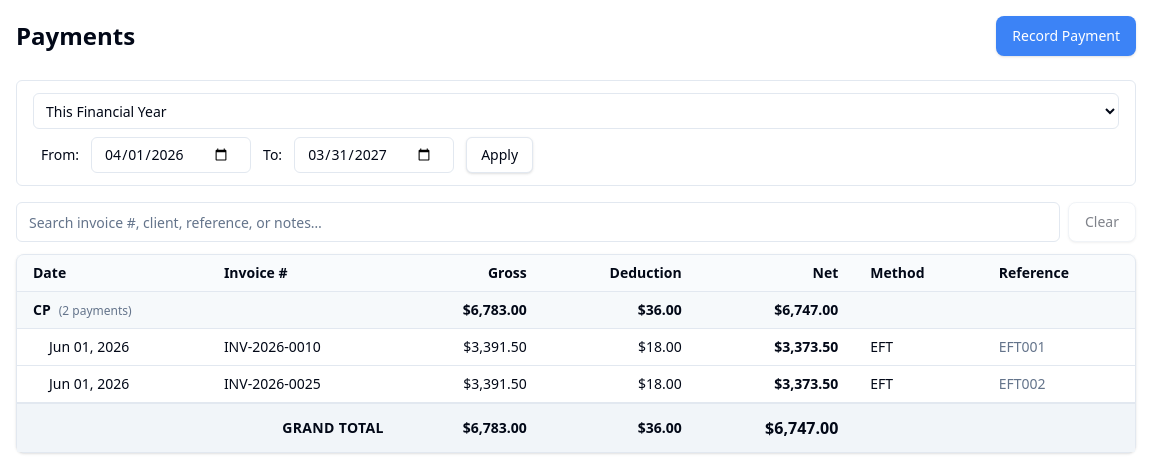
Payments landing page › client-side search filters by invoice #, client, or reference
Check: the text "INV-2026-0010" is shown, box [208,328,400,366]
Type "Sulpetro" into the field named "Search payments". click: coordinates (538, 222)
box: [16,202,1060,242]
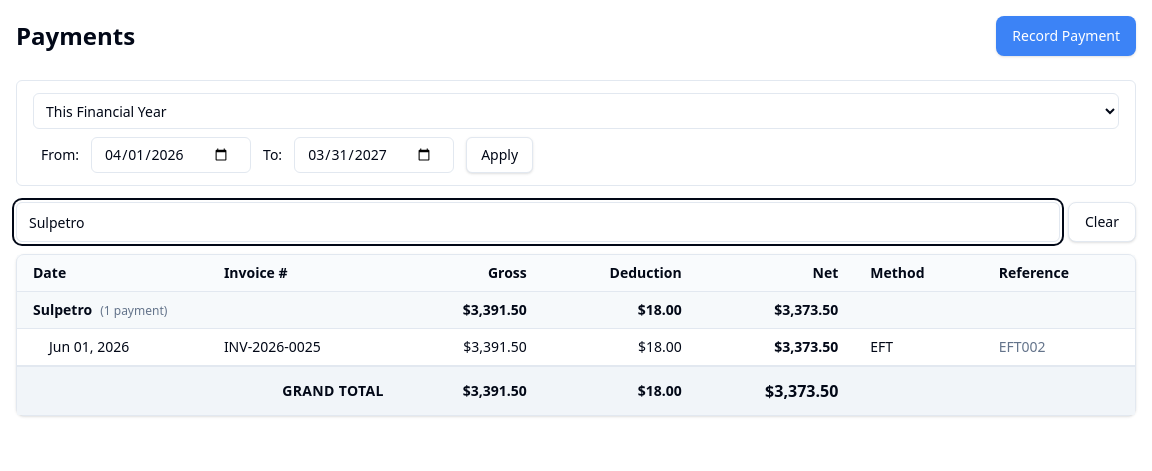
Check: the text "INV-2026-0025" is shown, box [208,328,400,366]
Check: the text "INV-2026-0010" is gone
